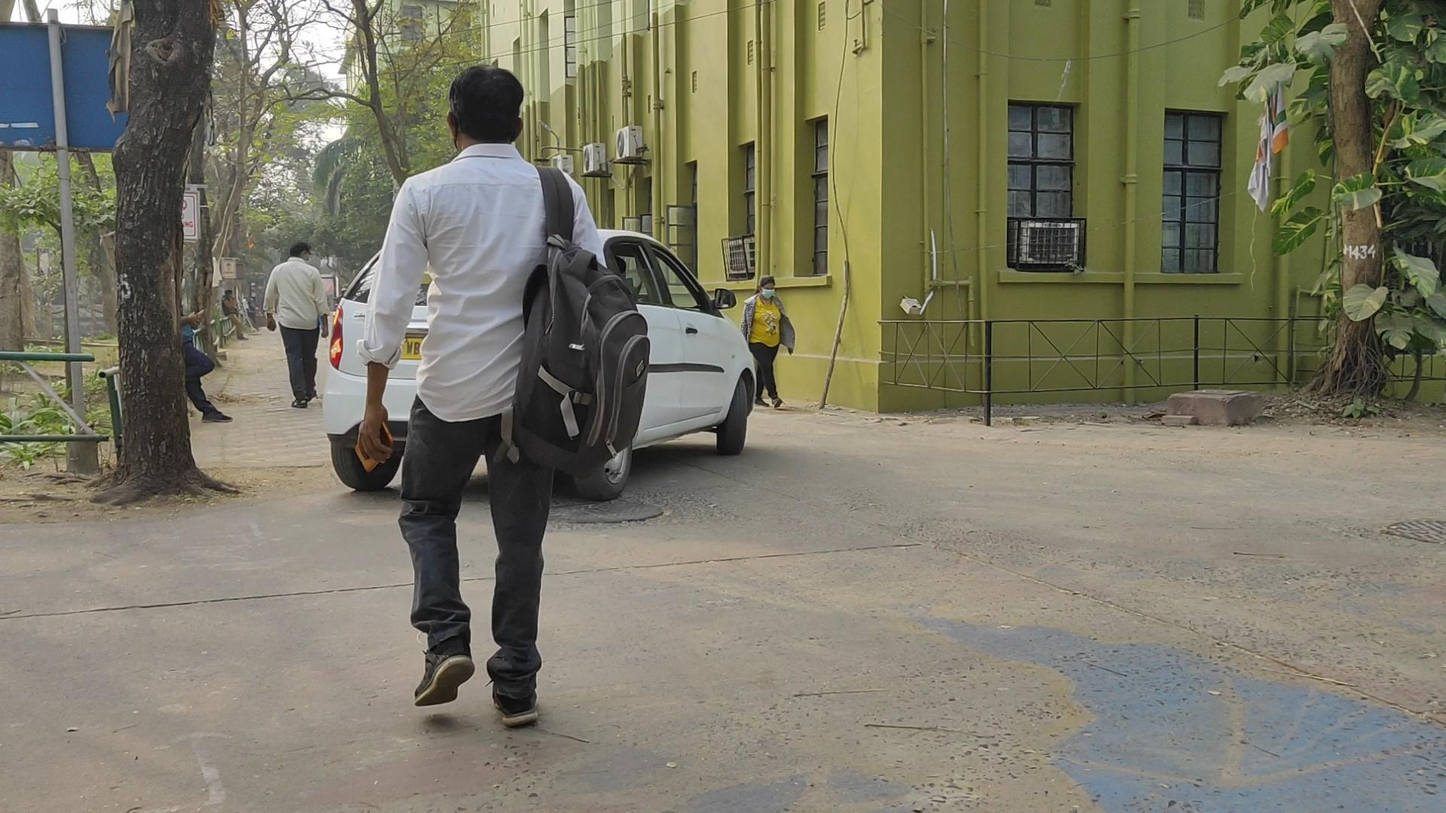car: (325, 218, 758, 501)
